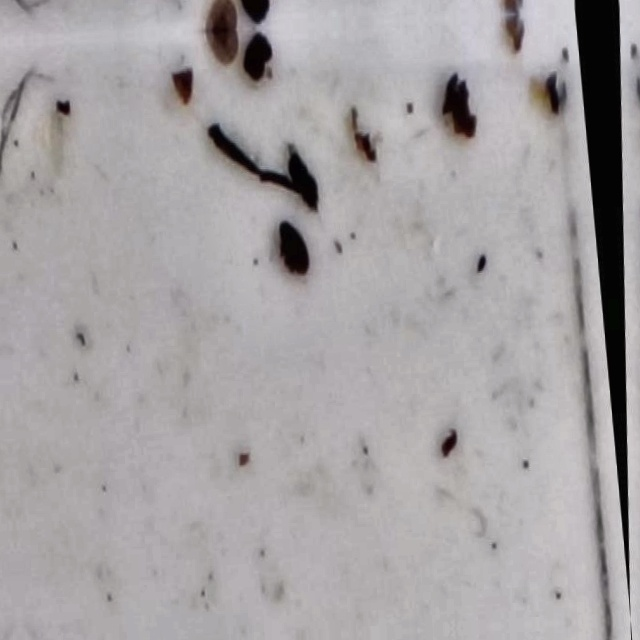varroa: (278, 215, 317, 282), (243, 28, 282, 84), (290, 153, 325, 211)
